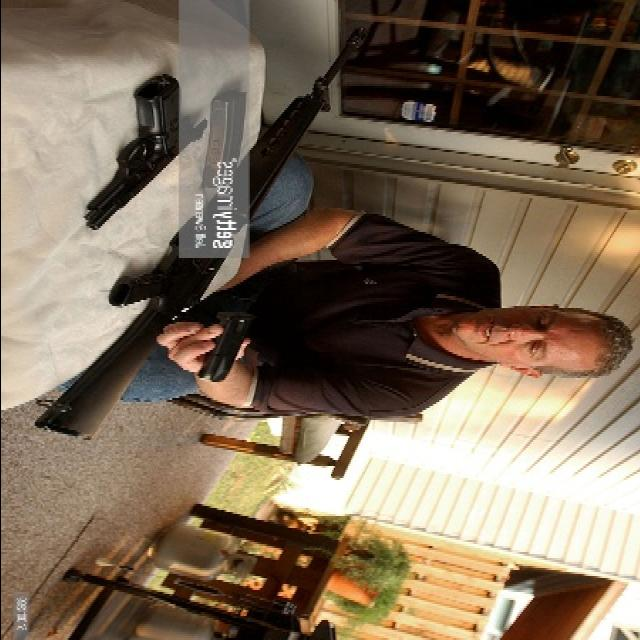handgun: (84, 75, 216, 245)
rifle: (23, 19, 377, 447)
